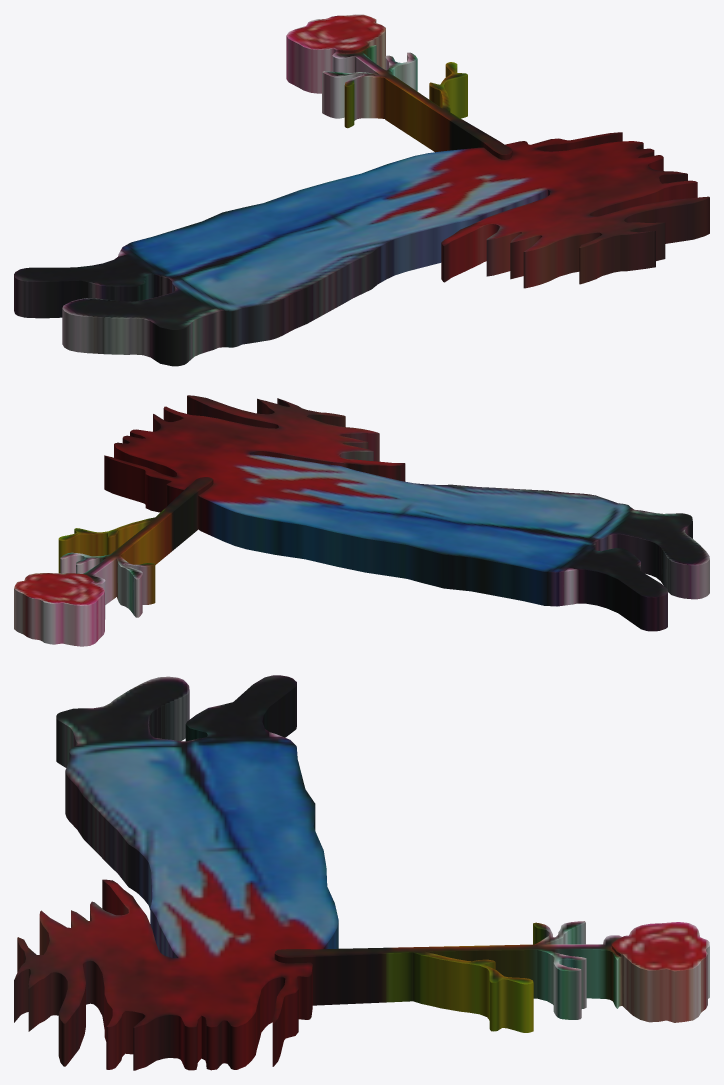
Rendered from Mural setuan 2-6.dae.
3 renders of one model, top to bottom at view 1: azimuth 30°, elevation 25°; view 2: azimuth 150°, elevation 25°; view 3: azimuth 270°, elevation 25°, orthographic. The views are drawn at different scales.
Parts seen in each view (by area): view 1: SketchUp; view 2: SketchUp; view 3: SketchUp.
Boxes of the visible parts, x1=… form: SketchUp: x1=14, y1=14, x2=709, y2=366; SketchUp: x1=14, y1=395, x2=709, y2=646; SketchUp: x1=14, y1=675, x2=709, y2=1070.
Size of the model in its own units: 32.99 by 27.52 by 2.25.
Materials: 1 (1 with a texture image).
